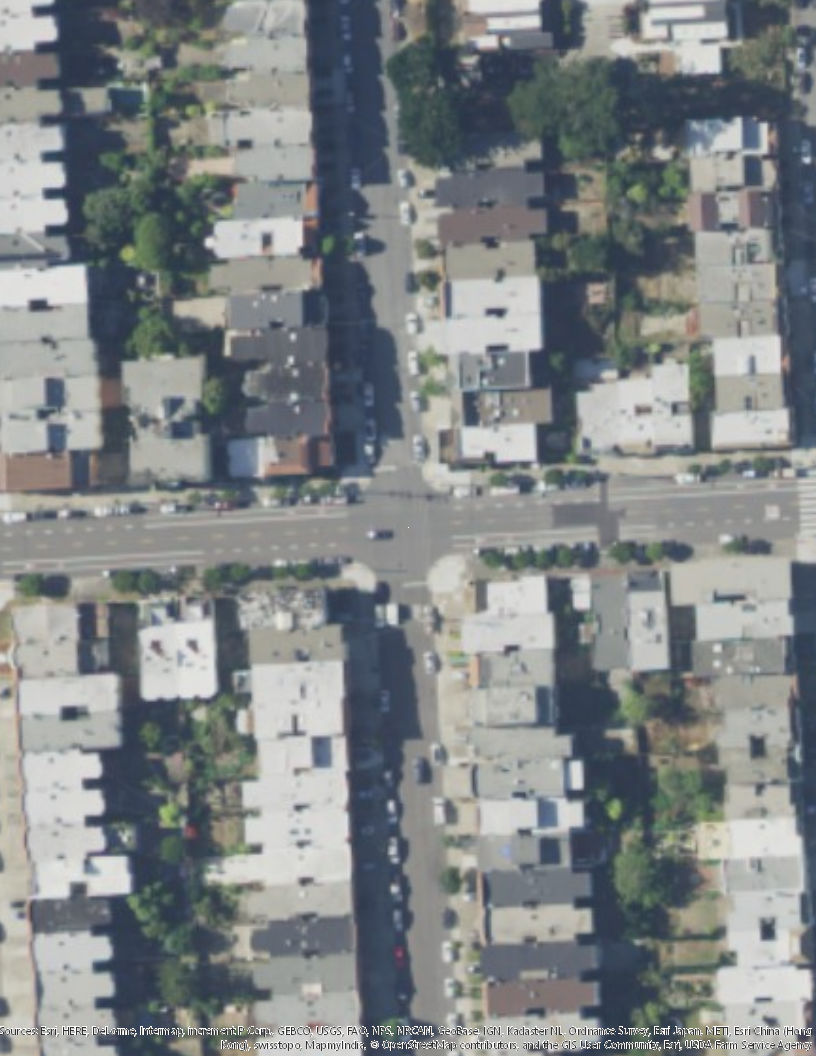zebracross: (797, 471, 816, 536)
